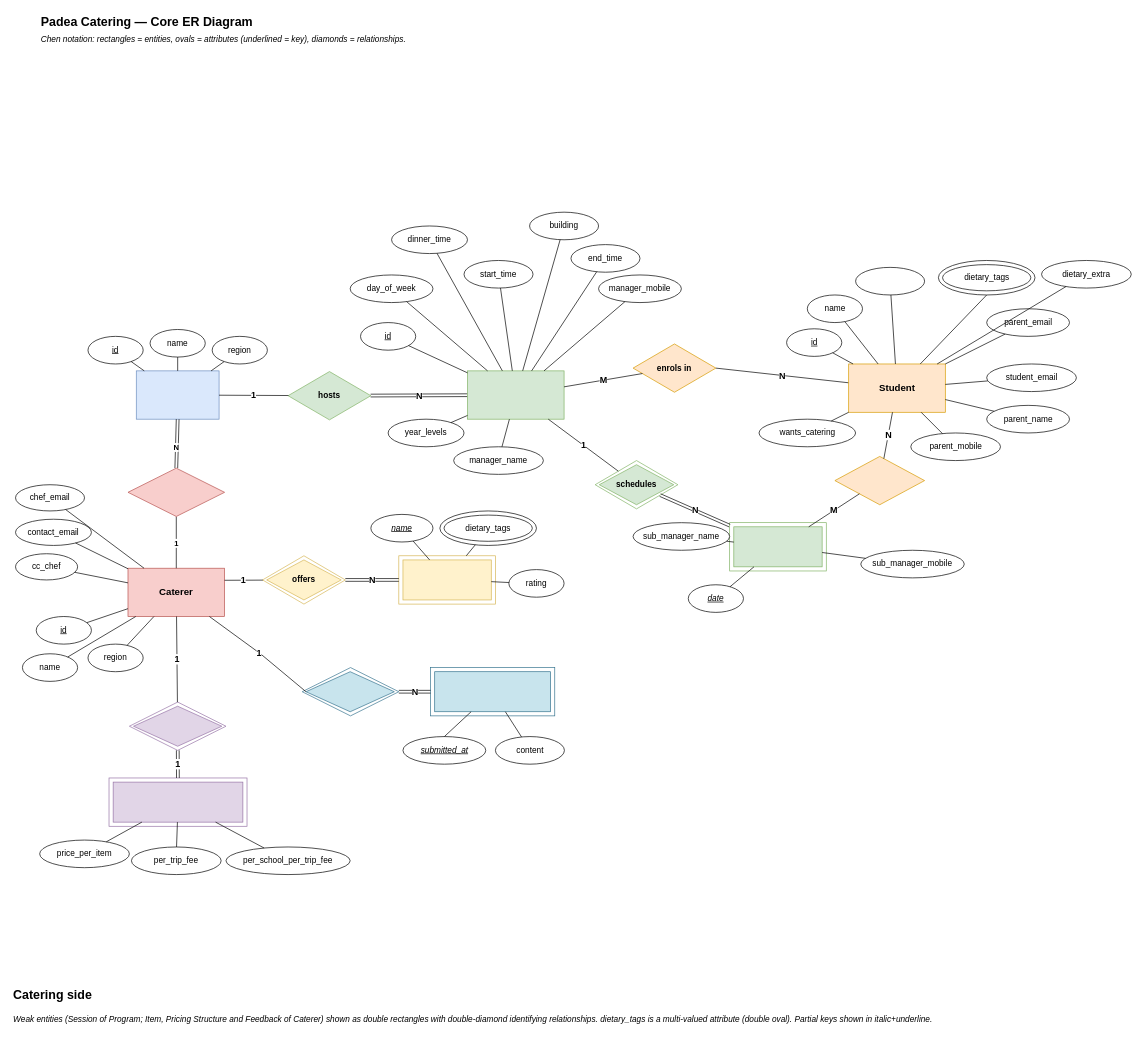
The diagram is 1143 pixels wide and 1038 high, and some of its shapes have lost their labels. Here are the shapes that lost their labels. From the top down, the centre of each, then its label:
At point 890,281: "year_level".
At point 177,394: "School".
At point 515,394: "Program".
At point 176,491: "caters for".
At point 879,480: "absent from".
At point 777,546: "Session".
At point 446,579: "Item".
At point 349,691: "about".
At point 492,691: "Feedback".
At point 177,726: "priced by".
At point 177,801: "Pricing Structure".
